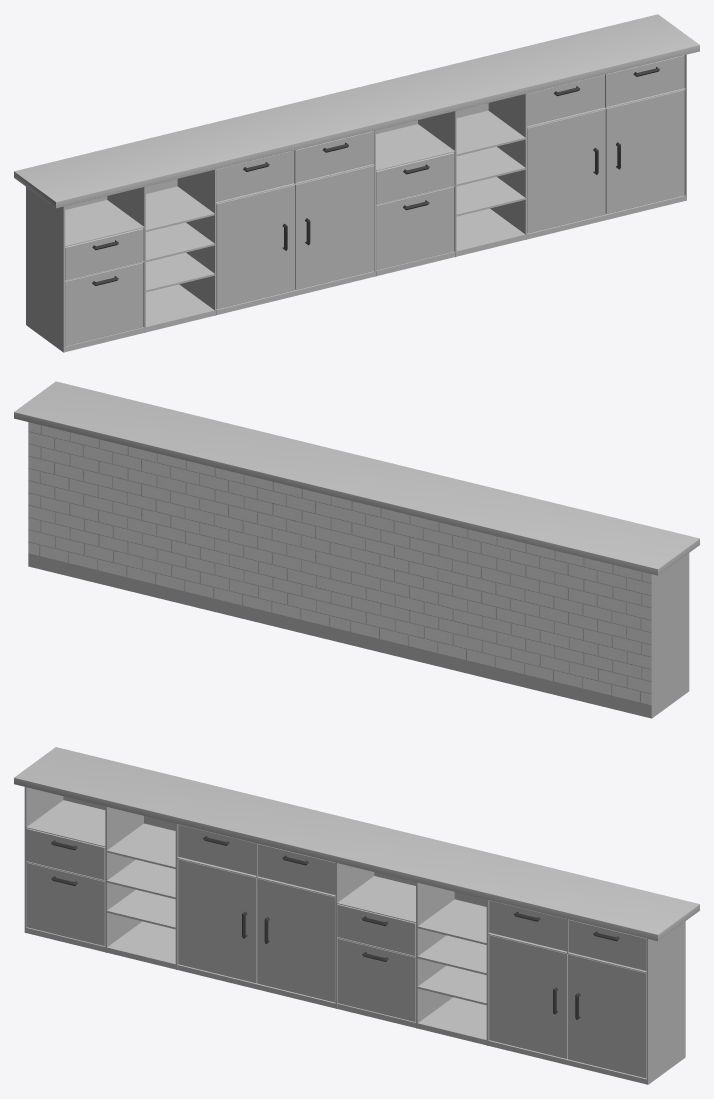
The model's file is Counter bar 2.fbx.
The picture shows the model from 3 angles, top to bottom: view 1: azimuth 30°, elevation 25°; view 2: azimuth 150°, elevation 25°; view 3: azimuth 330°, elevation 25°; orthographic projection.
Visible parts, largest first — view 1: counter bar 2, drawer 6, drawer 5, drawer 010, drawer 011, drawer 2, drawer 007, drawer1, drawer002, drawer 009, drawer 3, drawer 008 (+1 smaller); view 2: counter bar 2; view 3: counter bar 2, drawer 010, drawer 5, drawer 6, drawer 011, drawer 007, drawer 2, drawer002, drawer1, drawer 008, drawer 3, drawer 009 (+1 smaller).
Part boxes in pixels (x1,y1,x2,y2): counter bar 2: (14,14,699,352); drawer 6: (605,90,684,213); drawer 5: (527,109,605,233); drawer 010: (216,185,294,309); drawer 011: (295,165,373,289); drawer 2: (376,187,454,270); drawer 007: (65,262,143,346); drawer1: (376,152,454,204); drawer002: (65,228,143,279); drawer 009: (216,150,294,201); drawer 3: (607,55,684,106); drawer 008: (296,131,373,182); counter bar 2: (14,381,699,718); counter bar 2: (14,747,699,1084); drawer 010: (178,859,257,983); drawer 5: (489,935,567,1058); drawer 6: (568,954,646,1078); drawer 011: (257,878,335,1002); drawer 007: (26,862,105,946); drawer 2: (337,938,415,1021); drawer002: (26,828,105,880); drawer1: (337,904,415,955); drawer 008: (257,844,335,895); drawer 3: (568,919,646,970); drawer 009: (178,824,256,875).
Size of the model in its own units: 4111 by 940 by 480.
